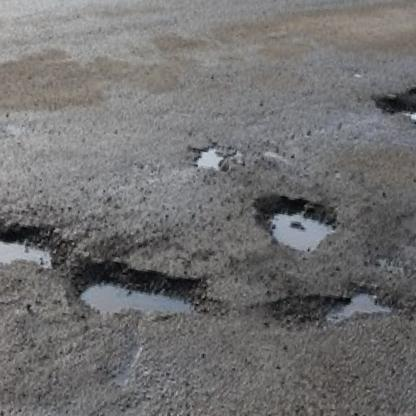pothole: (64, 254, 216, 335), (268, 269, 400, 345), (249, 189, 341, 258), (0, 213, 66, 279), (371, 92, 416, 136), (190, 143, 230, 176)
